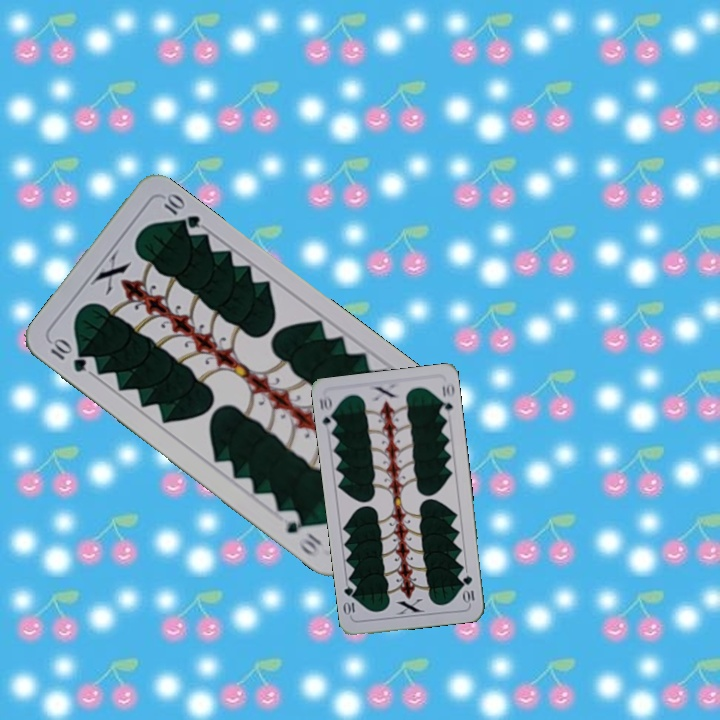G10: (46, 335, 89, 375), (315, 393, 338, 432), (459, 571, 477, 606)
